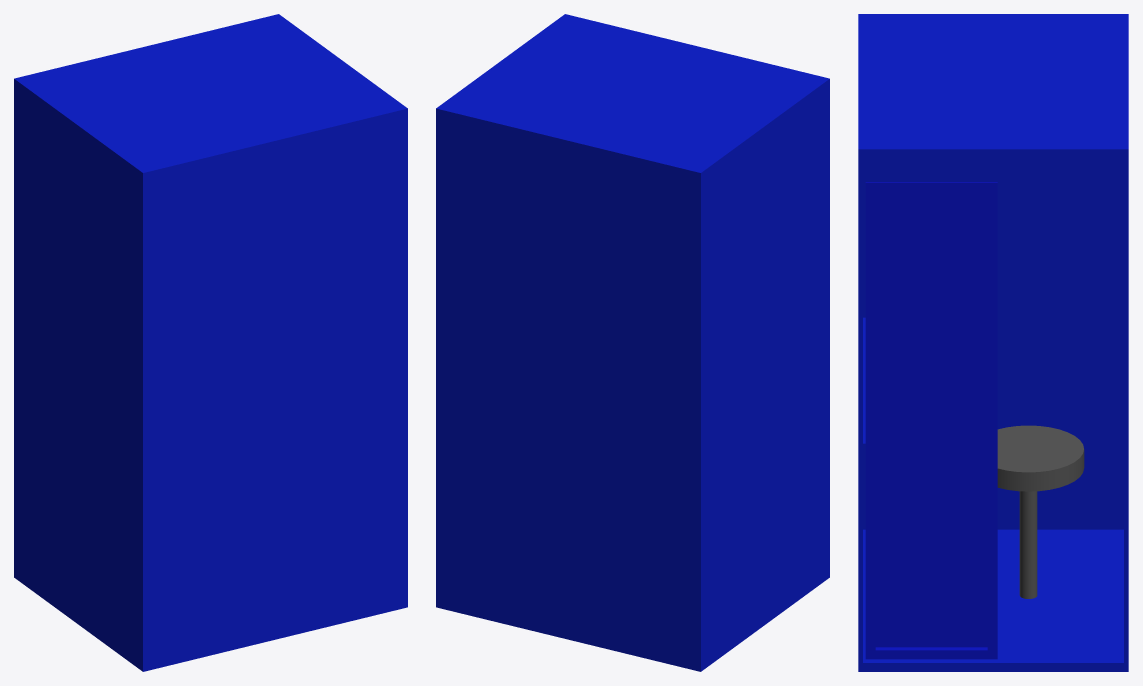
Rendered from PhoneBox.fbx.
3 views of the same model, side by side, from view 1: azimuth 30°, elevation 25°; view 2: azimuth 150°, elevation 25°; view 3: azimuth 270°, elevation 25° (orthographic). The views are drawn at different scales.
Parts seen in each view (by area): view 1: Box; view 2: Box; view 3: Box, Door, Seat.
Boxes of the visible parts, x1=… form: Box: x1=14, y1=14, x2=407, y2=671; Box: x1=436, y1=14, x2=829, y2=671; Box: x1=858, y1=14, x2=1128, y2=671; Door: x1=865, y1=182, x2=997, y2=659; Seat: x1=997, y1=425, x2=1084, y2=598.
Size of the model in its own units: 34.84 by 62.71 by 29.42.
